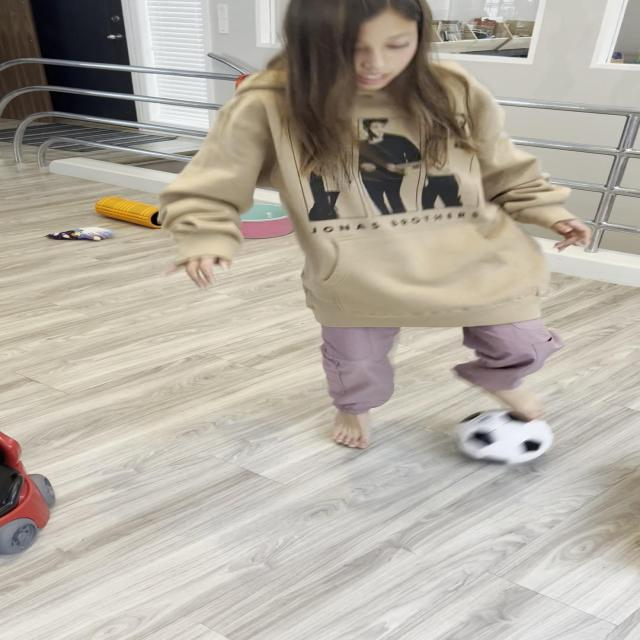Soccer Ball: (453, 408, 553, 464)
